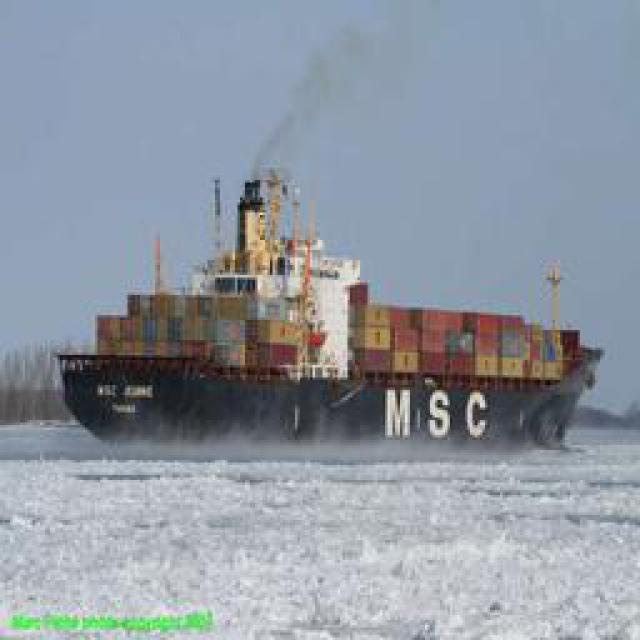Ship: (59, 146, 602, 441)
